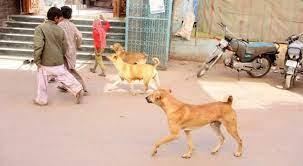dog_aggressive: (102, 54, 169, 100)
normal_dogs: (141, 82, 247, 159), (108, 40, 151, 66)
